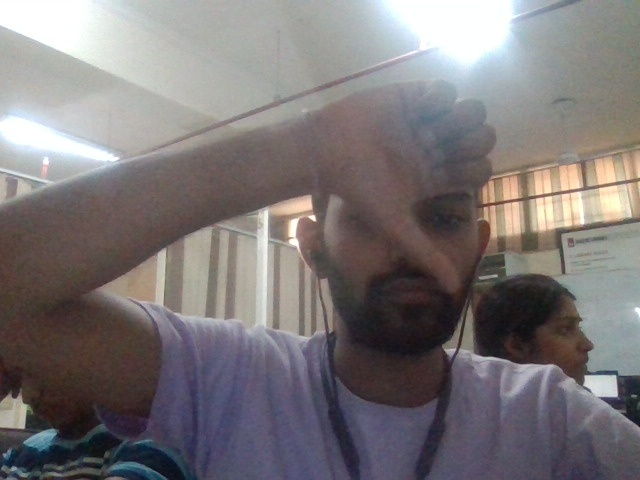No: (312, 77, 500, 298)
